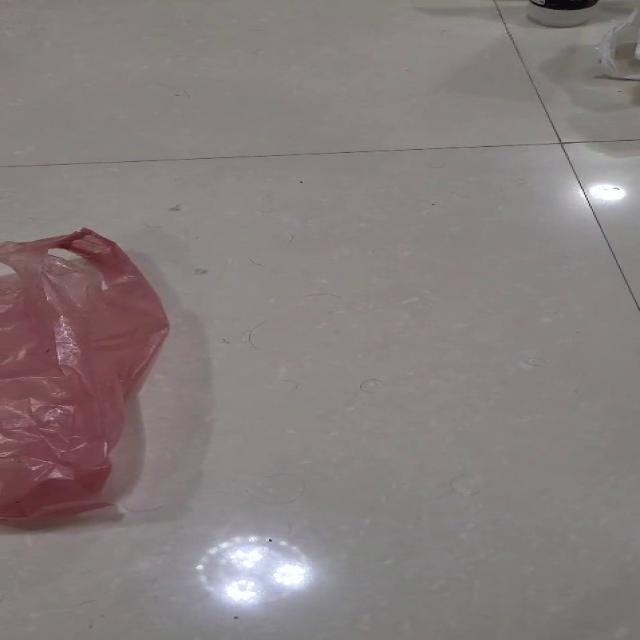plastic: (0, 226, 170, 523)
